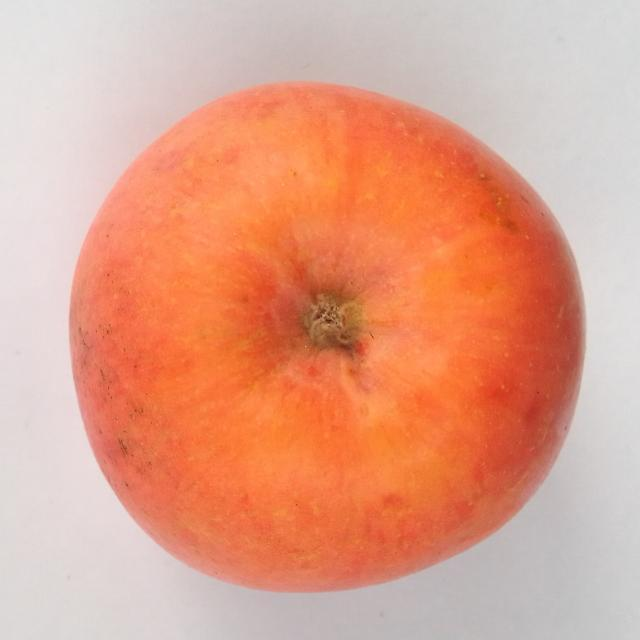Fresh Apple: (65, 87, 588, 595)
